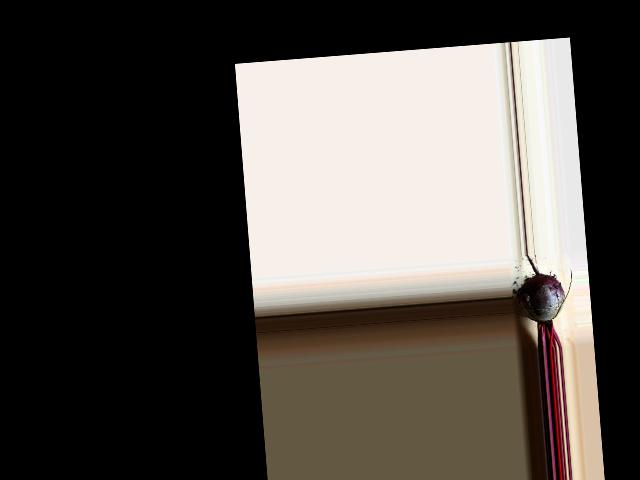beet: (514, 250, 577, 349)
